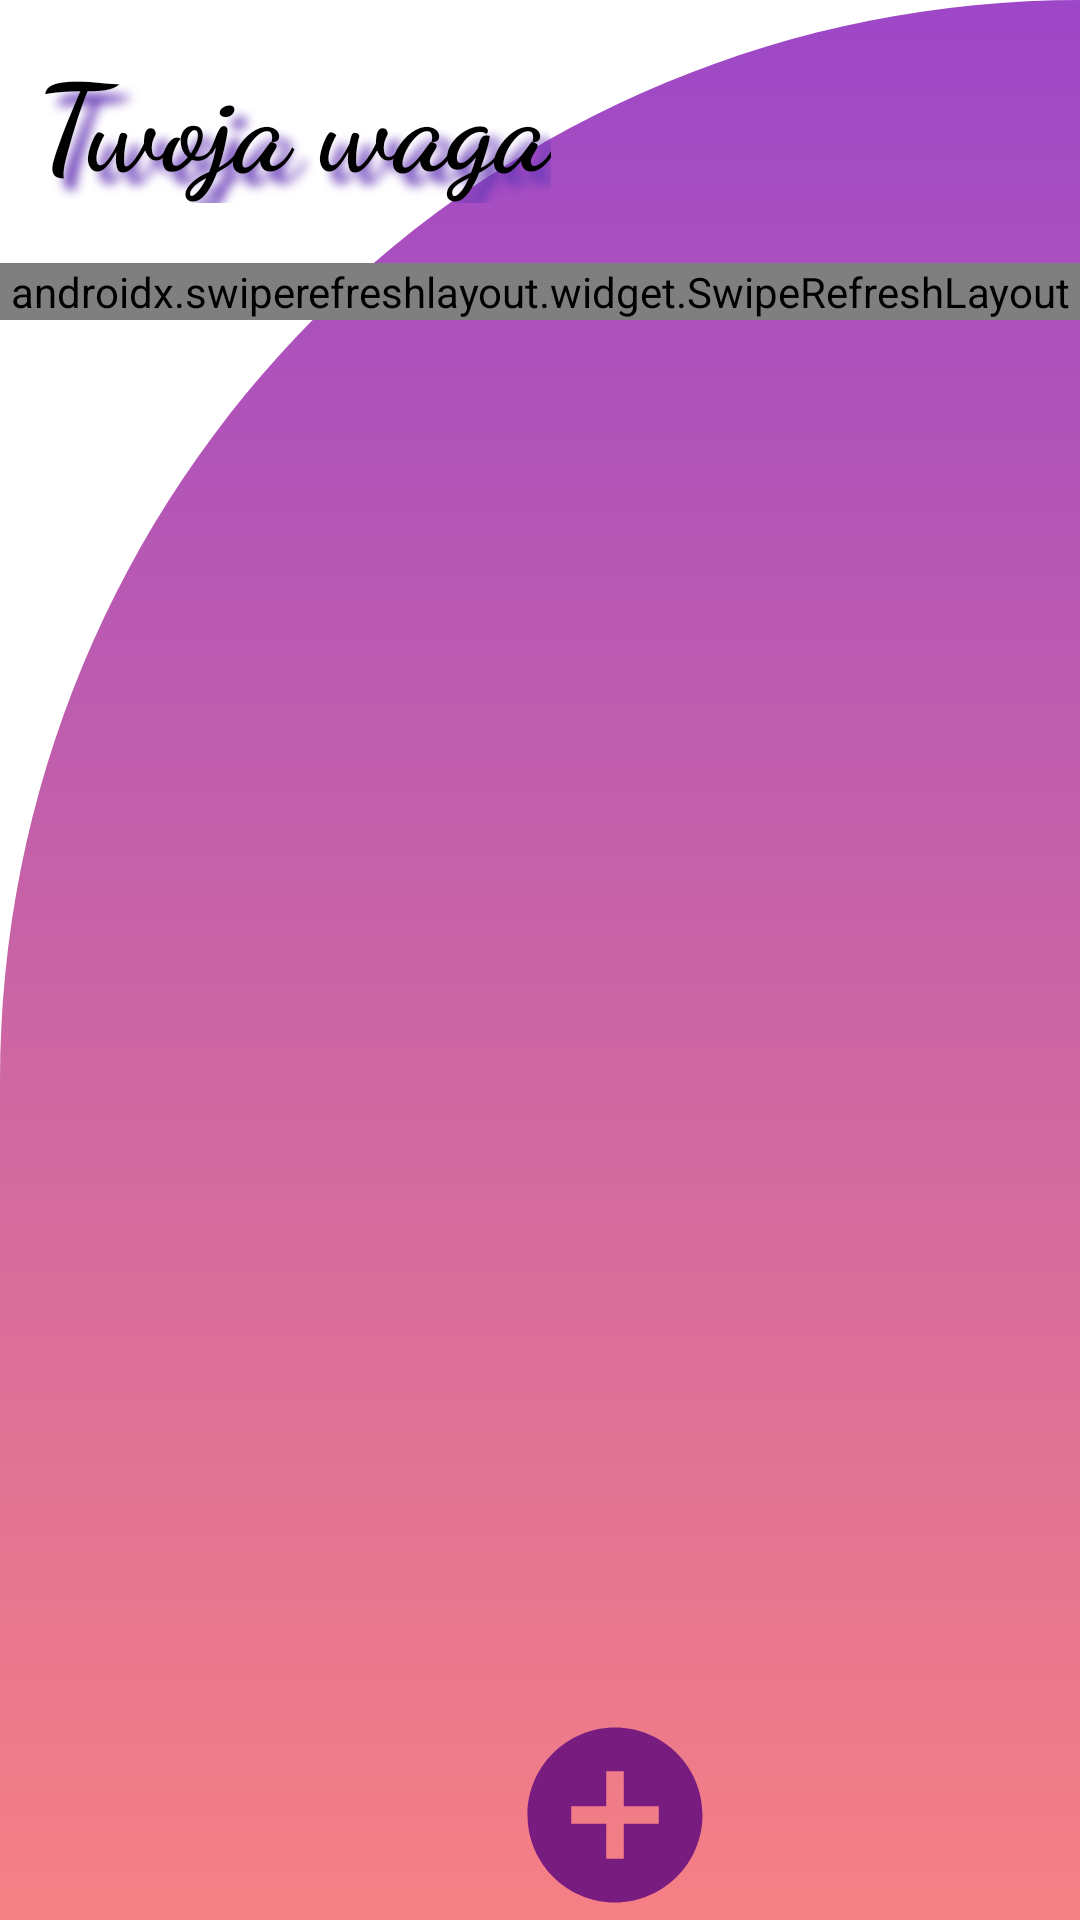

Screen size 1080px x 1920px. Icon name, then its box in pixels as (x1, y1, x2, y2):
add circle: (527, 1727, 703, 1903)
